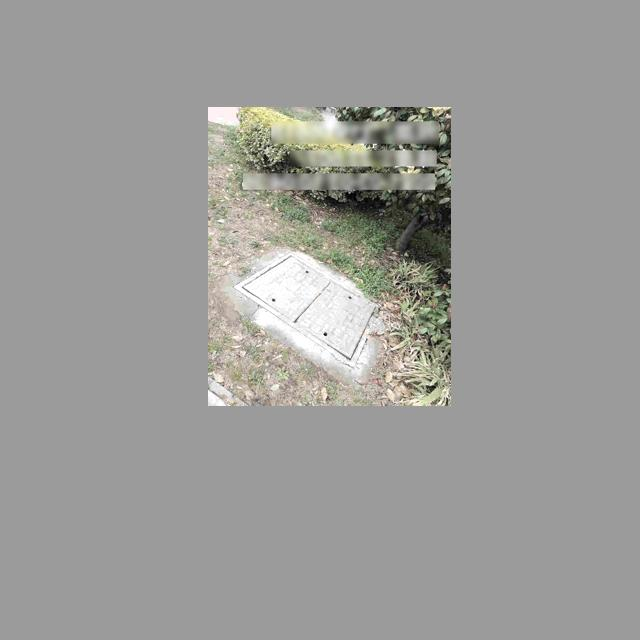good: (235, 251, 385, 352)
